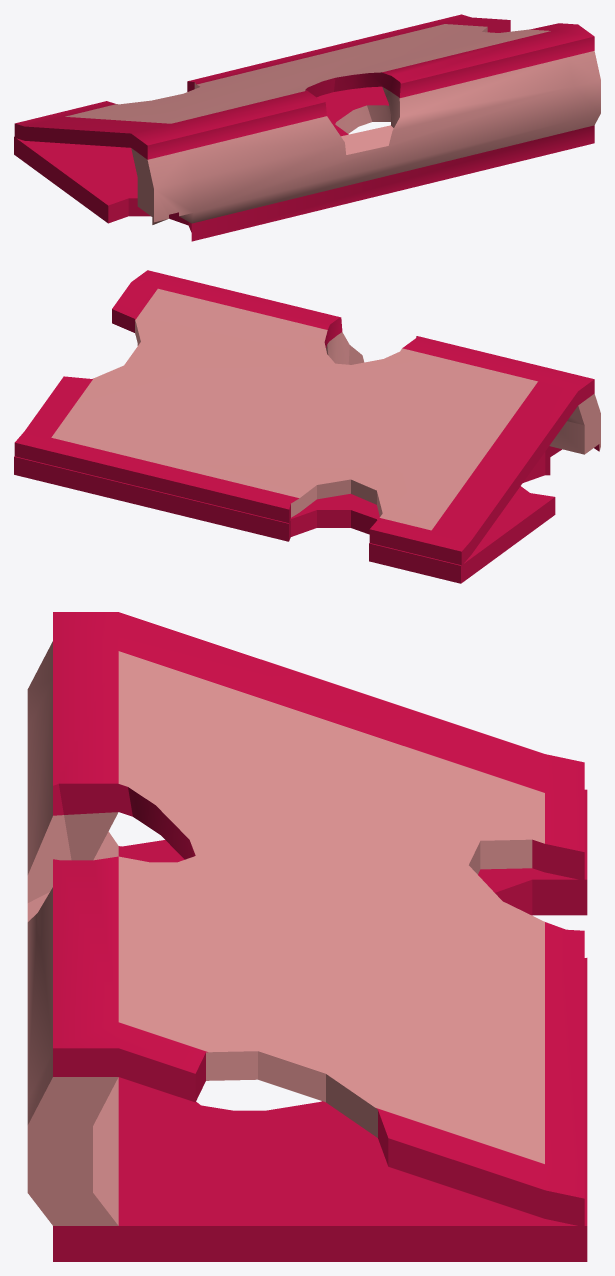
The model's file is CookBook_Broken.fbx.
3 views of the same model, one above another, from view 1: azimuth 30°, elevation 25°; view 2: azimuth 150°, elevation 25°; view 3: azimuth 270°, elevation 25° (orthographic). The views are drawn at different scales.
Parts seen in each view (by area): view 1: CookBook_Broken; view 2: CookBook_Broken; view 3: CookBook_Broken.
Boxes of the visible parts, bbox=[...] form: CookBook_Broken: bbox=[14, 14, 600, 241]; CookBook_Broken: bbox=[14, 270, 600, 583]; CookBook_Broken: bbox=[27, 612, 587, 1261].
Bounding box in the file's own units: 57.41 × 13.11 × 31.14.
